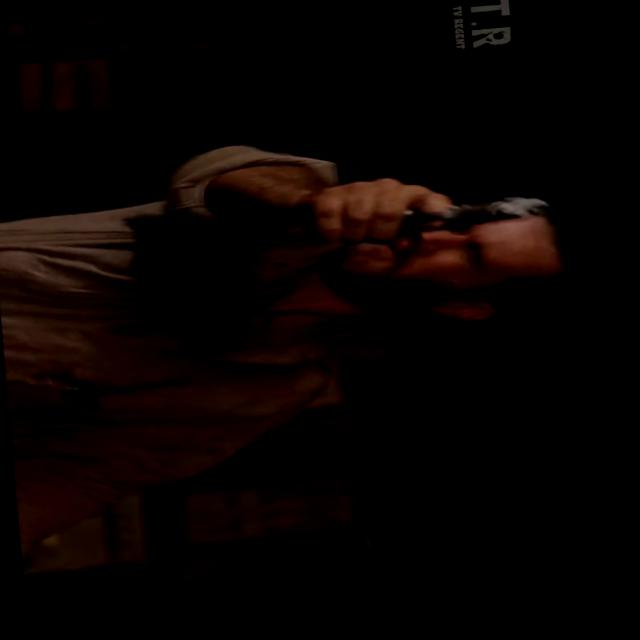handgun: (346, 169, 556, 260)
